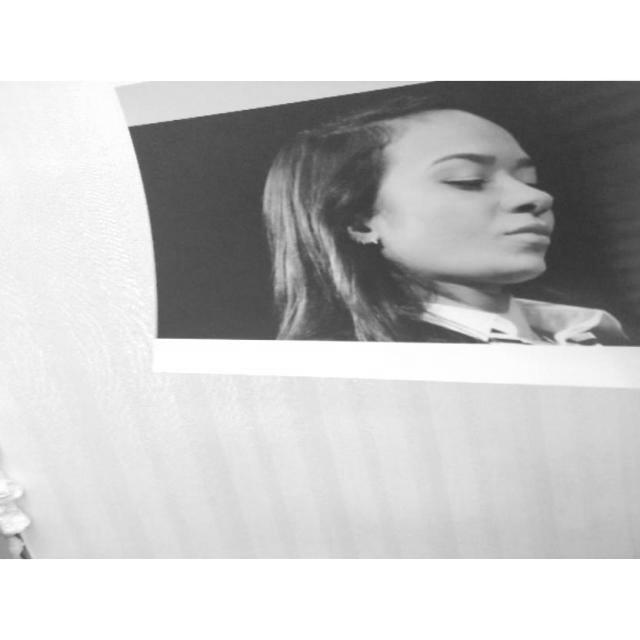fake: (112, 80, 640, 396)
